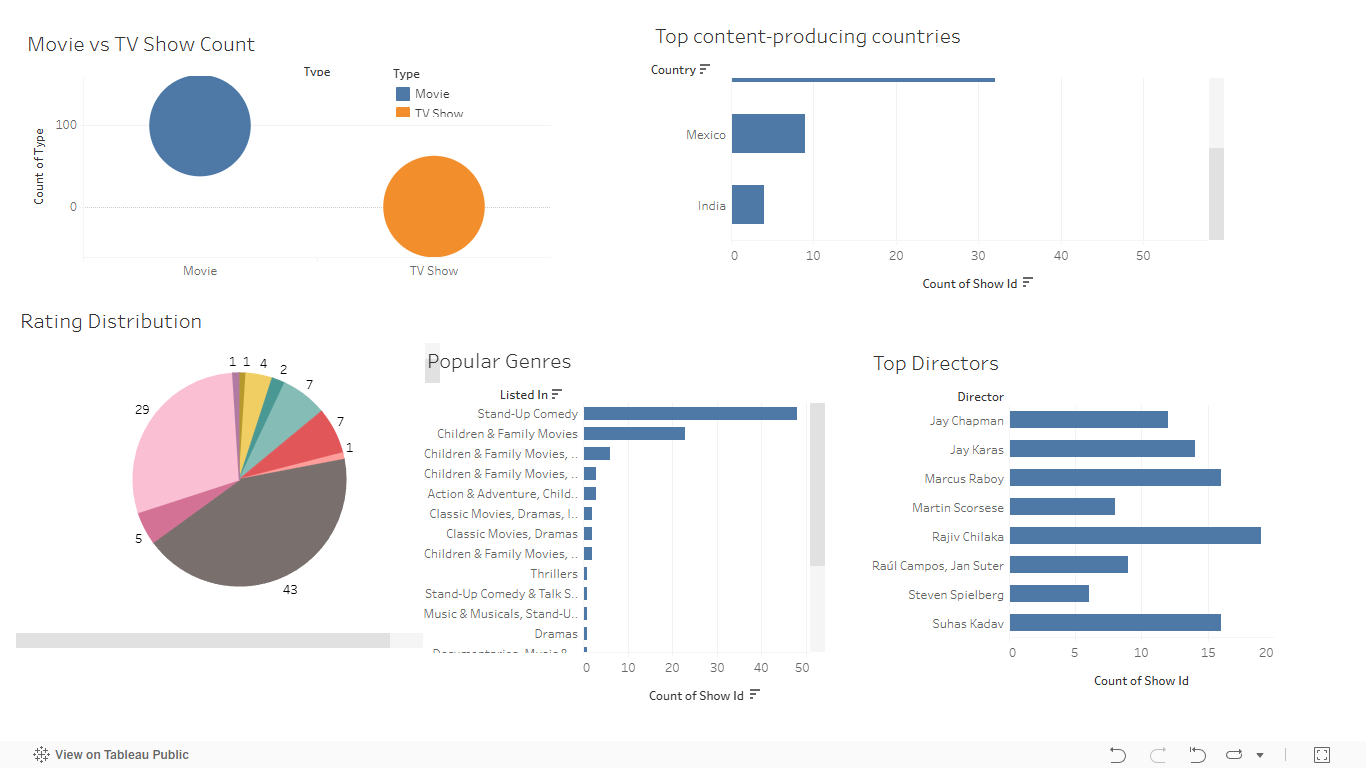

The dashboard page shown, as its layout file describes it:
{"tool":"tableau","page":{"name":"Dashboard 1","canvas":[1000,1000],"units":"permille","ordinal":0},"visuals":[{"type":"worksheet","title":"Top content-producing countries","mark":"Automatic","rows":["country"],"cols":["show_id"],"box":[476.6,20.4,421.4,380.6]},{"type":"worksheet","title":"Movie vs TV Show Count","mark":"Pie","rows":["type"],"cols":["type"],"box":[17.2,30.6,386.5,346.3]},{"type":"legend","title":"Movie vs TV Show Count","param":"[federated.1i7c9i40huhlu811idvqk0h23iy7].[none:type:nk]","box":[288,88,85.4,70.4]},{"type":"worksheet","title":"Rating Distribution","mark":"Pie","box":[11.5,404.6,310.9,469.4]},{"type":"worksheet","title":"Popular Genres","mark":"Automatic","rows":["listed_in"],"cols":["show_id"],"box":[309.4,458.3,296.9,498.2]},{"type":"worksheet","title":"Top Directors","mark":"Automatic","rows":["director"],"cols":["show_id"],"box":[636.5,461.1,296.4,517.6]}]}

Visuals, with their boxes on the dashboard's canvas, which has no fixed pixel size, in thousandths of its width and height (x1, y1, x2, y2). These are canvas units, not pixel positions in the 1366x768 screenshot, which may show the page scaled, cropped or inside an application window:
"Top content-producing countries" worksheet: <box>477,20,898,401</box>
"Movie vs TV Show Count" worksheet (Pie marks): <box>17,31,404,377</box>
"Movie vs TV Show Count" legend: <box>288,88,373,158</box>
"Rating Distribution" worksheet (Pie marks): <box>12,405,322,874</box>
"Popular Genres" worksheet: <box>309,458,606,956</box>
"Top Directors" worksheet: <box>636,461,933,979</box>
